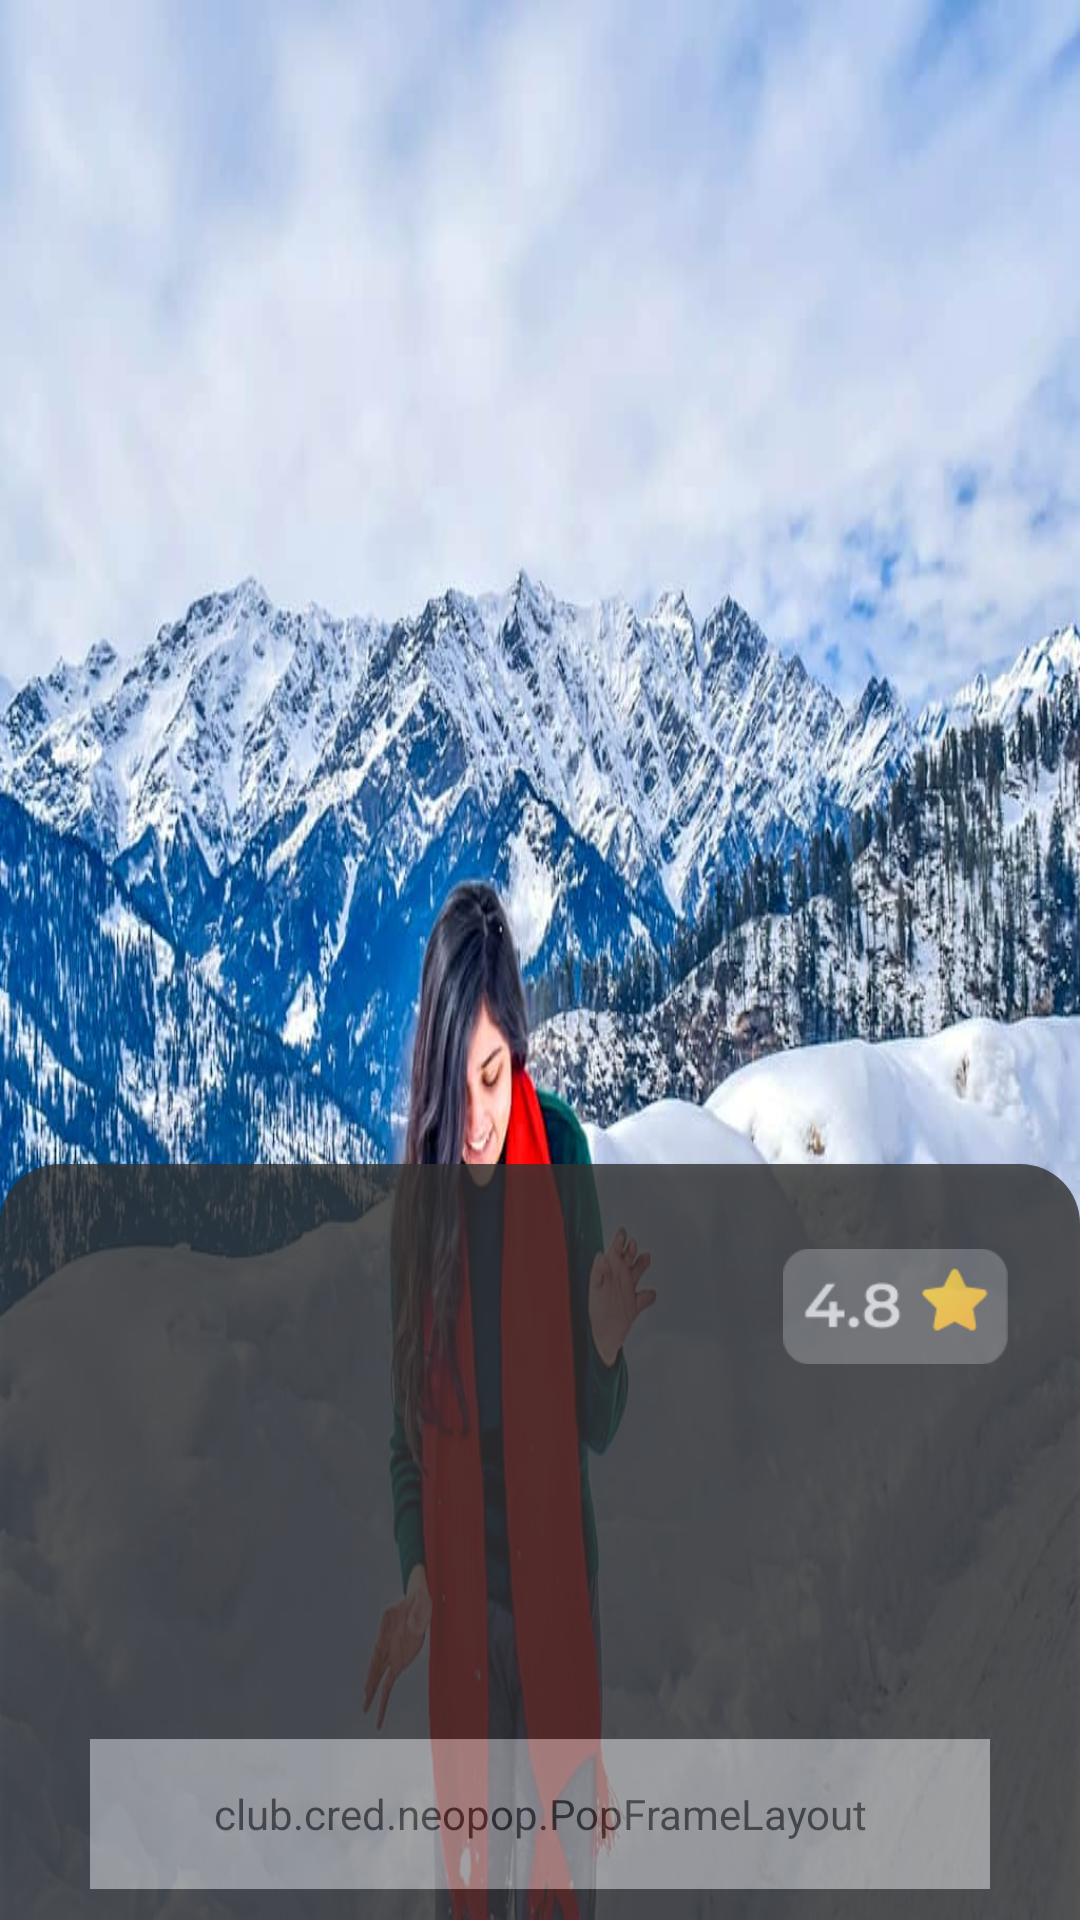

Icons on this 1080px×1920px Android screen, each with the point to tap as [x,y]:
rating: [895,1306]
